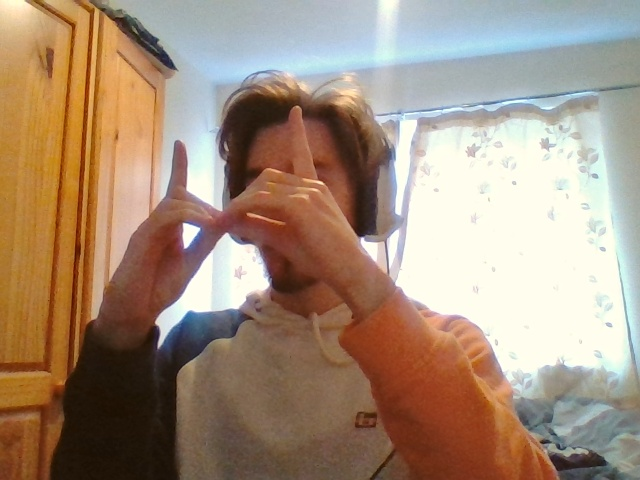meet: (150, 106, 321, 243)
